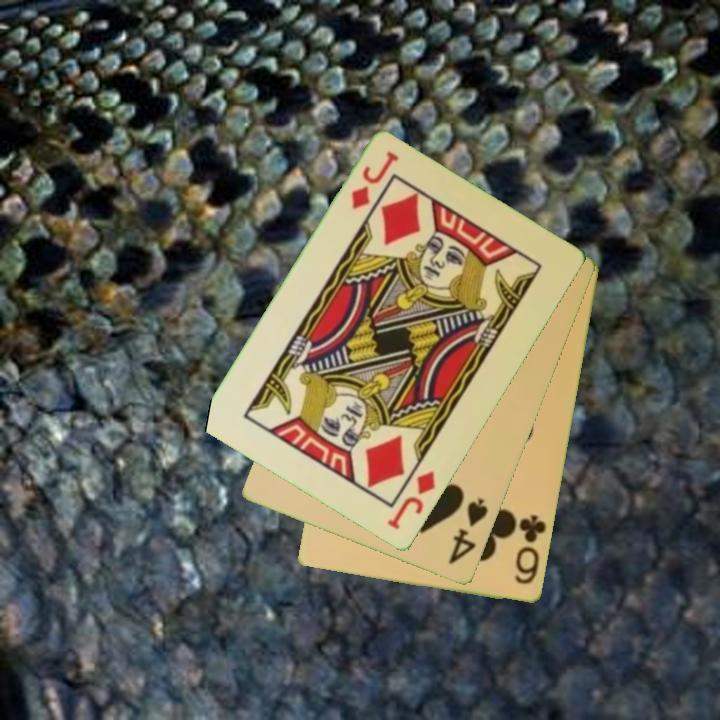4s: (445, 495, 491, 568)
6c: (511, 511, 550, 588)
Jd: (383, 468, 439, 534), (348, 148, 403, 213)
